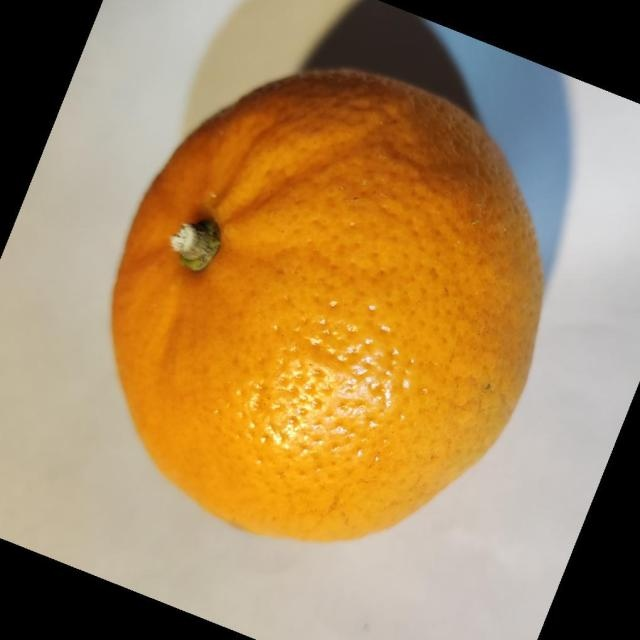agrume: (109, 66, 545, 543)
